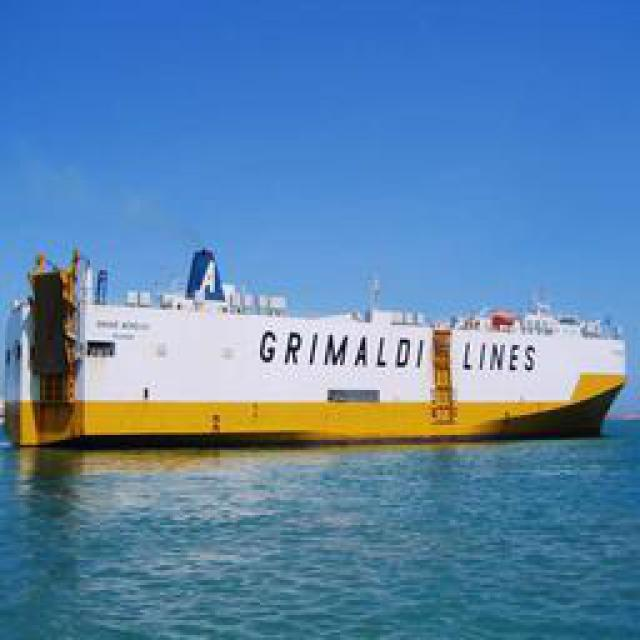Ship: (4, 246, 634, 454)
